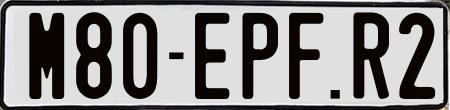0: (121, 11, 160, 101)
2: (396, 12, 434, 101)
8: (75, 11, 114, 102)
E: (194, 12, 232, 102)
F: (289, 13, 328, 100)
M: (26, 13, 63, 100)
P: (241, 11, 279, 98)
R: (353, 11, 393, 100)
